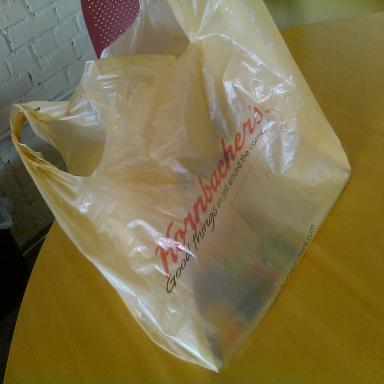plasticbag: (8, 13, 360, 366)
